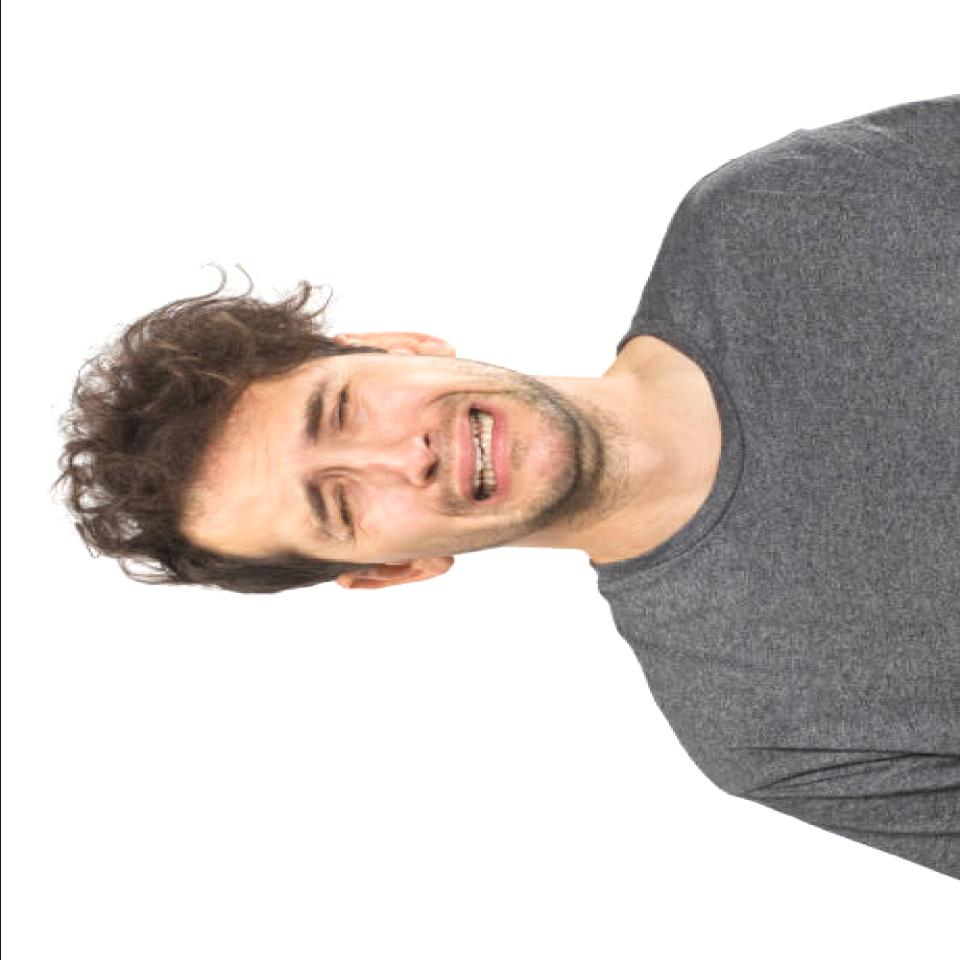Sadness: (207, 338, 587, 590)
